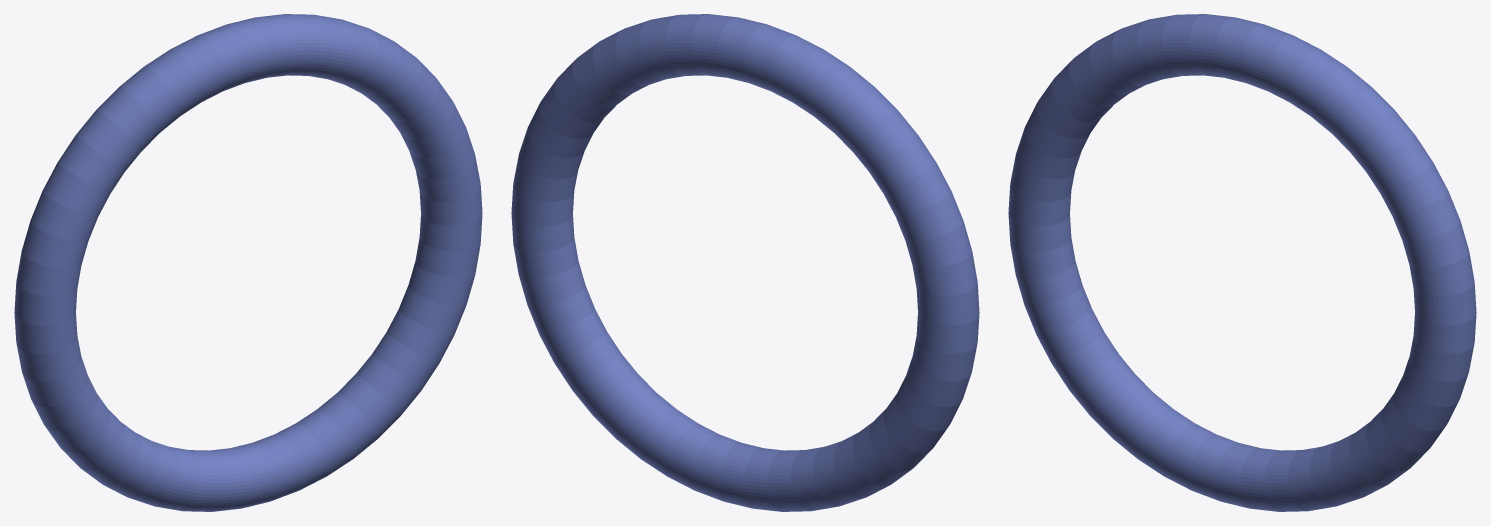
The picture shows the model from 3 angles, left to right: view 1: azimuth 30°, elevation 25°; view 2: azimuth 150°, elevation 25°; view 3: azimuth 330°, elevation 25°; orthographic projection.
Visible parts, largest first — view 1: world; view 2: world; view 3: world.
Boxes of the visible parts, x1=… form: world: x1=14, y1=14, x2=482, y2=511; world: x1=511, y1=14, x2=979, y2=511; world: x1=1008, y1=14, x2=1476, y2=511.
Size of the model in its own units: 21.87 by 21.82 by 2.53.
